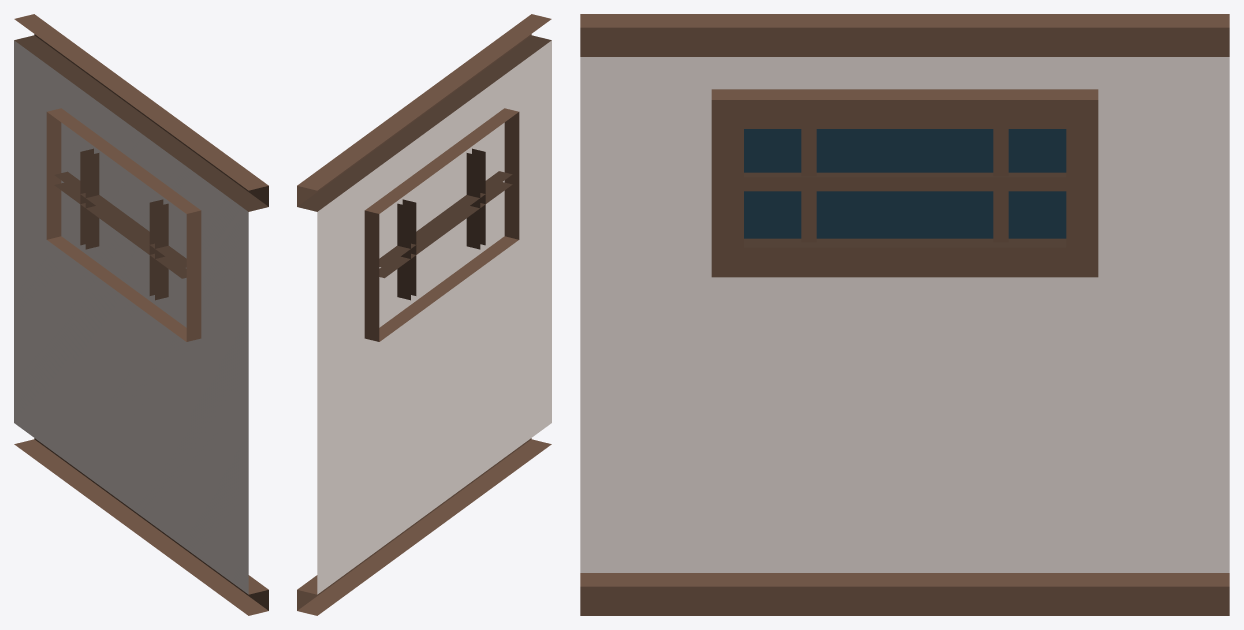
File: basic_wall_007.fbx
The picture shows the model from 3 angles, left to right: view 1: azimuth 30°, elevation 25°; view 2: azimuth 150°, elevation 25°; view 3: azimuth 270°, elevation 25°; orthographic projection. The views are drawn at different scales.
Visible parts, largest first — view 1: Base_Wall.007; view 2: Base_Wall.007; view 3: Base_Wall.007.
Boxes of the visible parts, left/top/right/bottom form: Base_Wall.007: left=14, top=14, right=268, bottom=615; Base_Wall.007: left=297, top=14, right=551, bottom=615; Base_Wall.007: left=580, top=14, right=1229, bottom=615.
Bounding box in the file's own units: 200 × 17.23 × 200.
